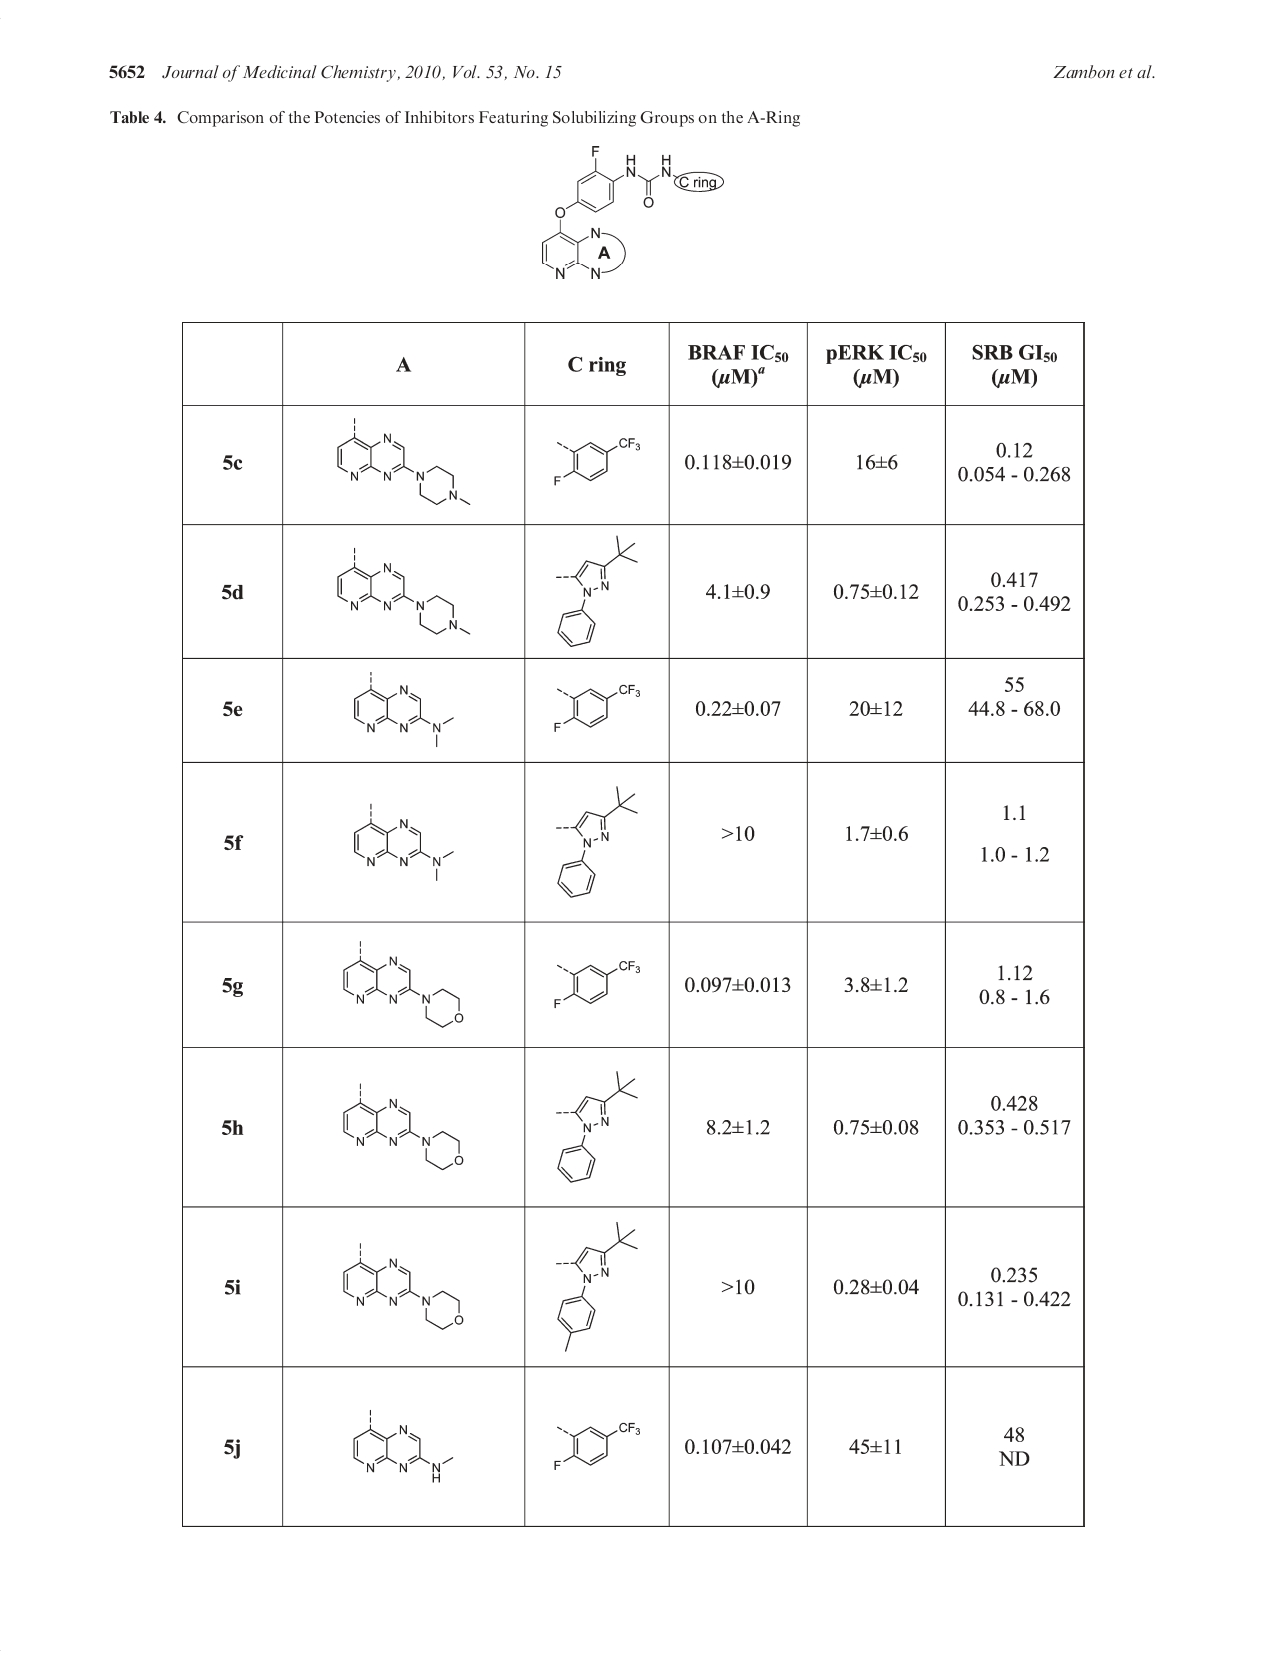exist_molecular: (539, 144, 726, 279), (335, 541, 472, 638), (332, 416, 471, 508), (342, 1239, 465, 1333), (556, 1217, 640, 1352), (342, 939, 465, 1029), (342, 1083, 463, 1172), (555, 533, 641, 652), (552, 785, 640, 896), (555, 1069, 640, 1184), (352, 668, 456, 751), (350, 802, 455, 883), (352, 1406, 456, 1485), (548, 954, 642, 1013), (551, 431, 642, 491), (551, 1415, 642, 1472), (551, 678, 640, 734)
